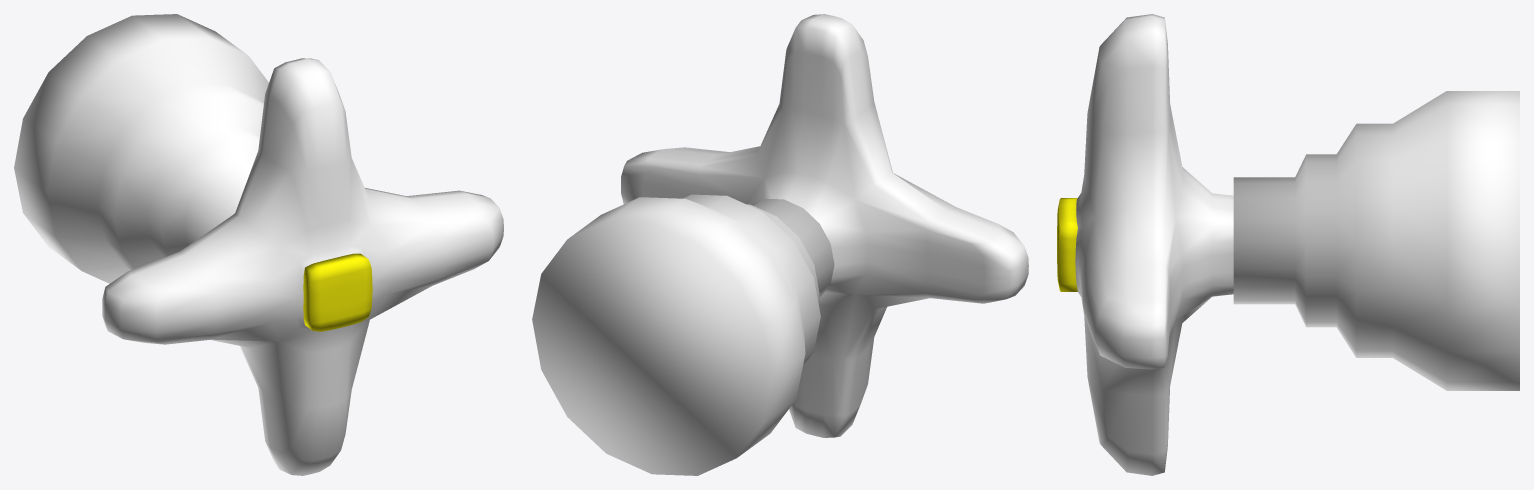
The model's file is fumehood_knob_right_yellow.gltf.
3 views of the same model, side by side, from view 1: azimuth 30°, elevation 25°; view 2: azimuth 150°, elevation 25°; view 3: azimuth 270°, elevation 25° (orthographic). The views are drawn at different scales.
Parts seen in each view (by area): view 1: fumehoodknob.007; view 2: fumehoodknob.007; view 3: fumehoodknob.007.
Part boxes in pixels (x1,y1,x2,y2): fumehoodknob.007: (14,14,503,475); fumehoodknob.007: (532,14,1028,475); fumehoodknob.007: (1057,14,1519,475).
Bounding box in the file's own units: 0.2352 × 0.2352 × 0.22.
